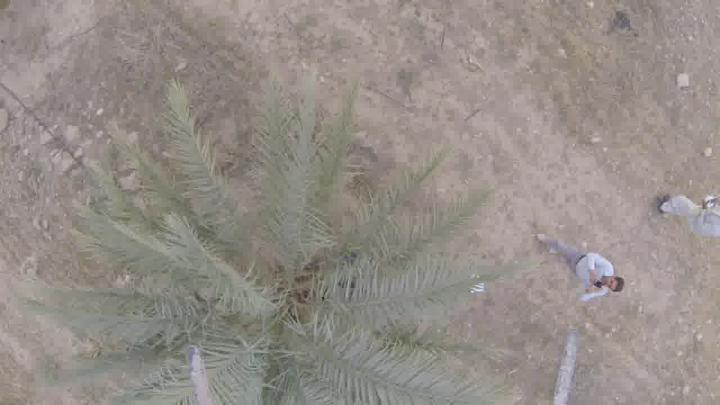Date-Palm-Crown: (150, 179, 406, 405)
